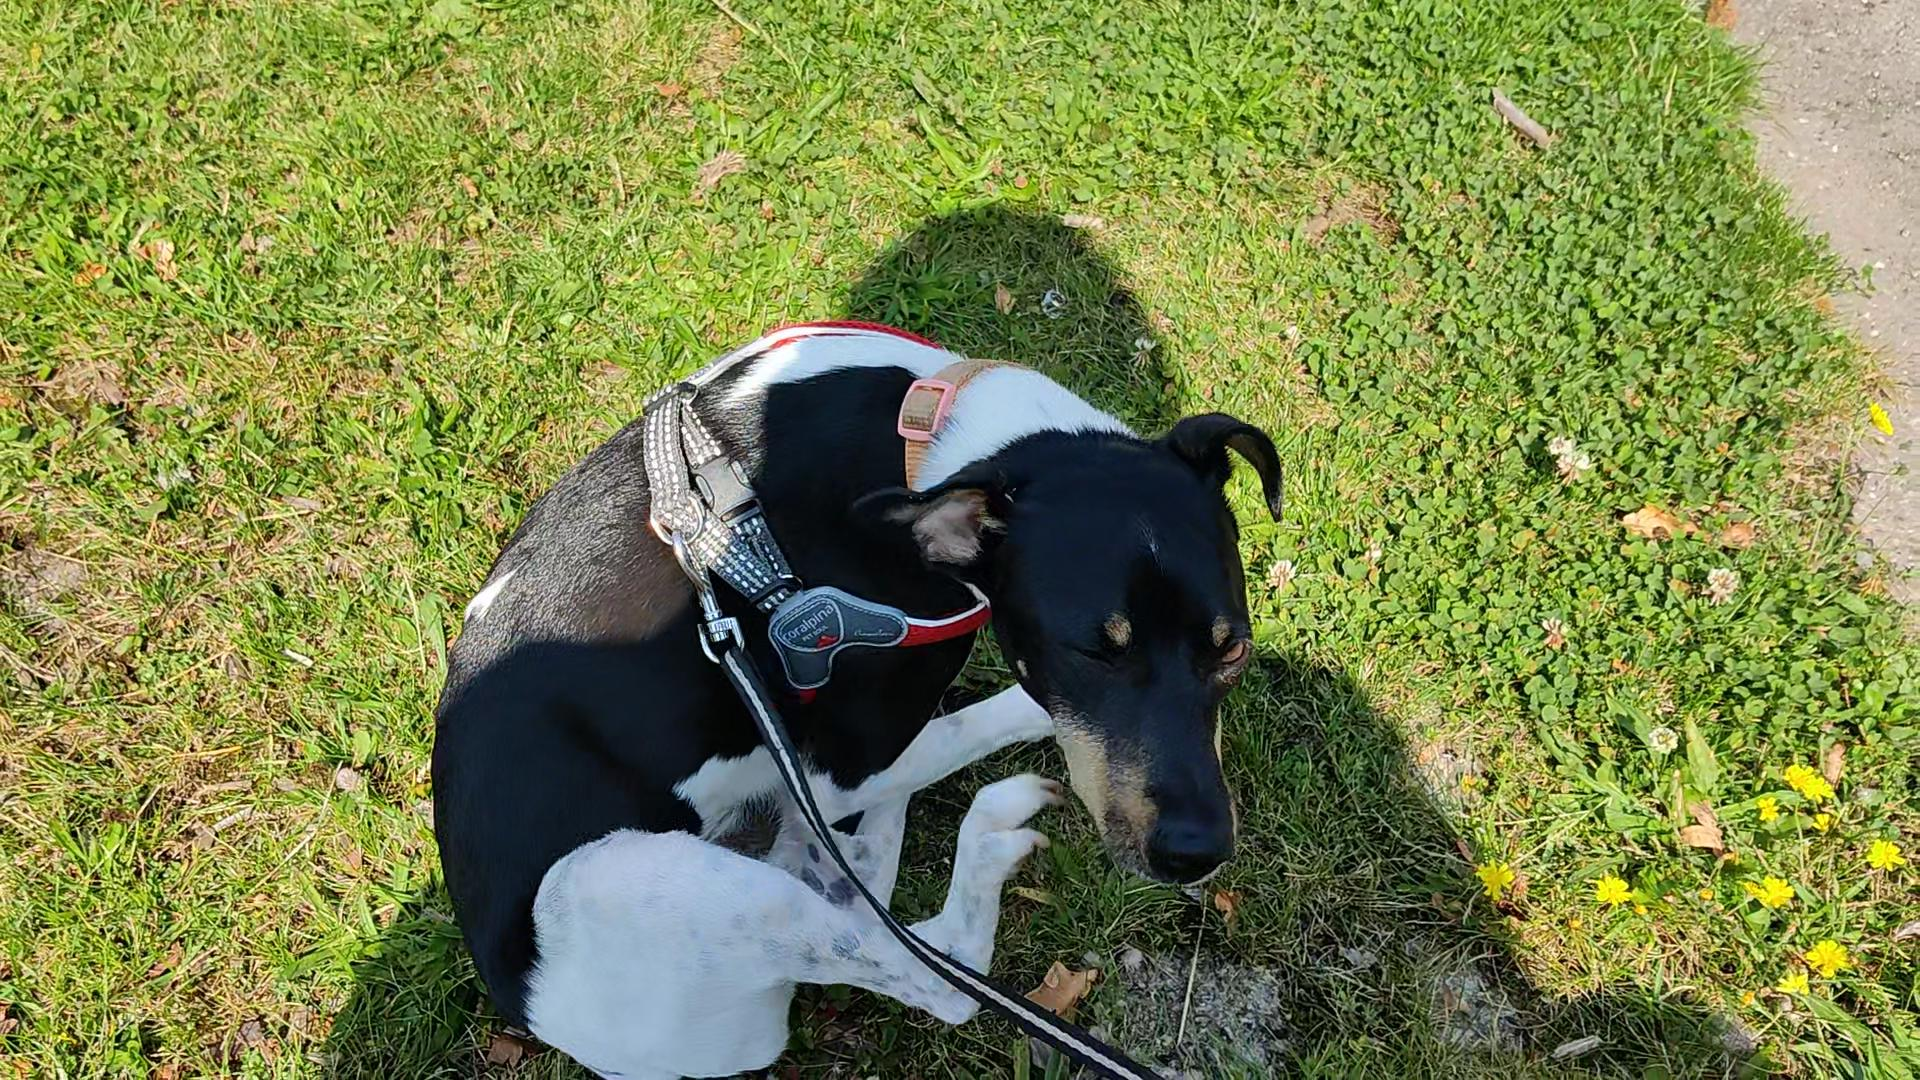Dog: (419, 303, 1290, 1079)
